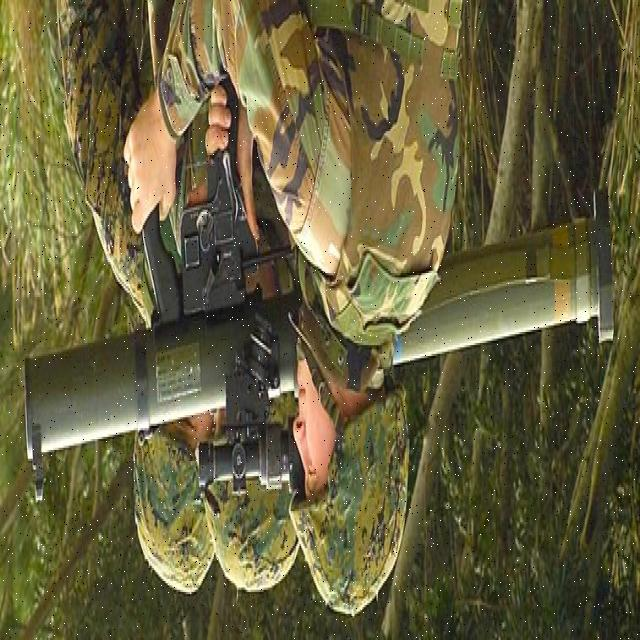bazooka: (21, 143, 624, 517)
